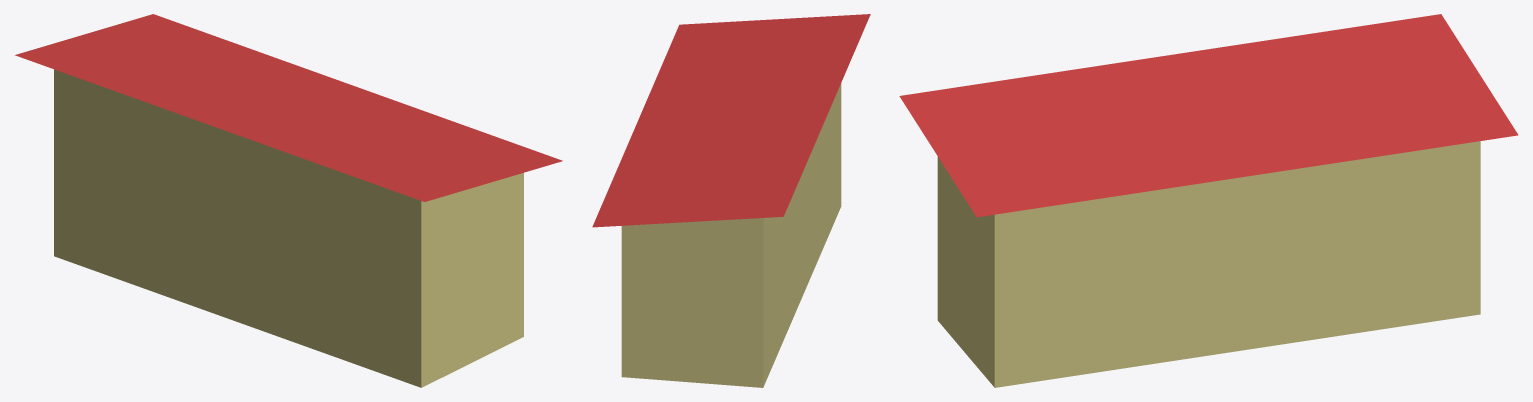
3 renders of one model, left to right at view 1: azimuth 30°, elevation 25°; view 2: azimuth 150°, elevation 25°; view 3: azimuth 270°, elevation 25°, orthographic. The views are drawn at different scales.
Bounding box in the file's own units: 13.73 × 20.72 × 8.
